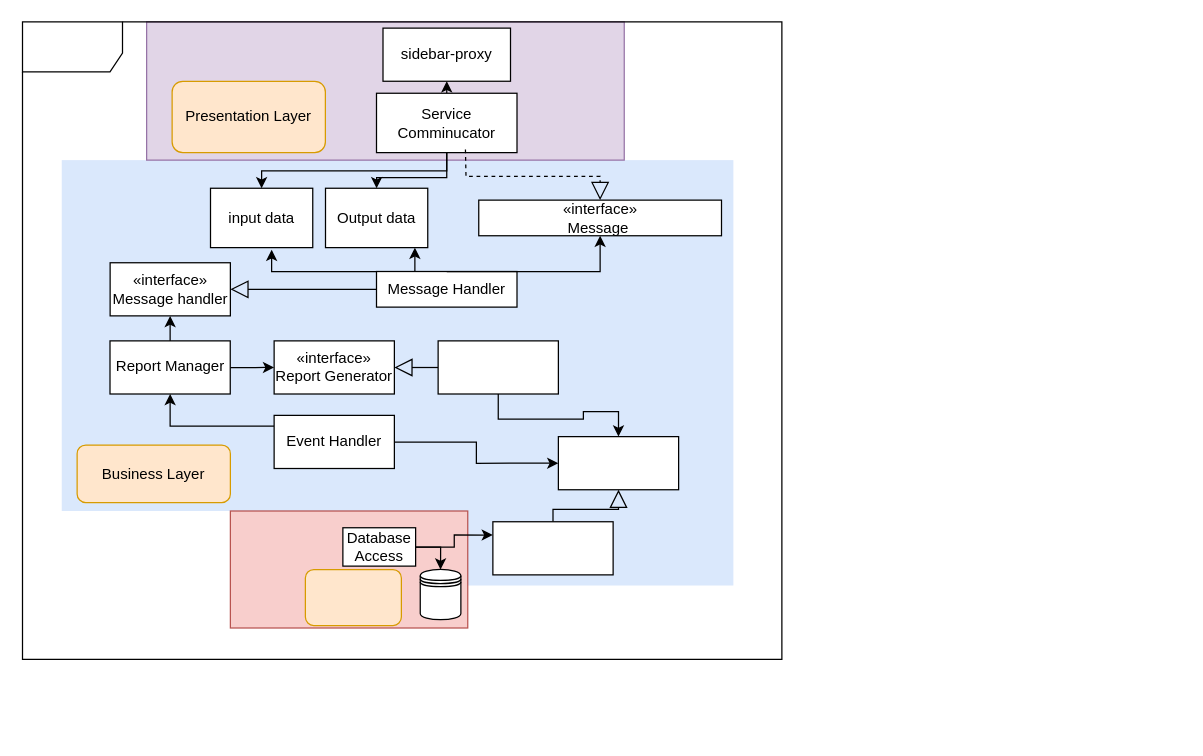
Some shapes in this 1203 by 756 pixel diagram are drawn without their labels. Here are the shapes that lost their labels. From the top down, the box of each, then its label:
(21, 21, 782, 659): report micro-service
(437, 340, 558, 394): Report Generator
(557, 435, 679, 490): «interface» Data Access DAO
(492, 520, 613, 575): Data Access DAO
(304, 568, 401, 626): Persistent Layer
(419, 568, 461, 620): DB
